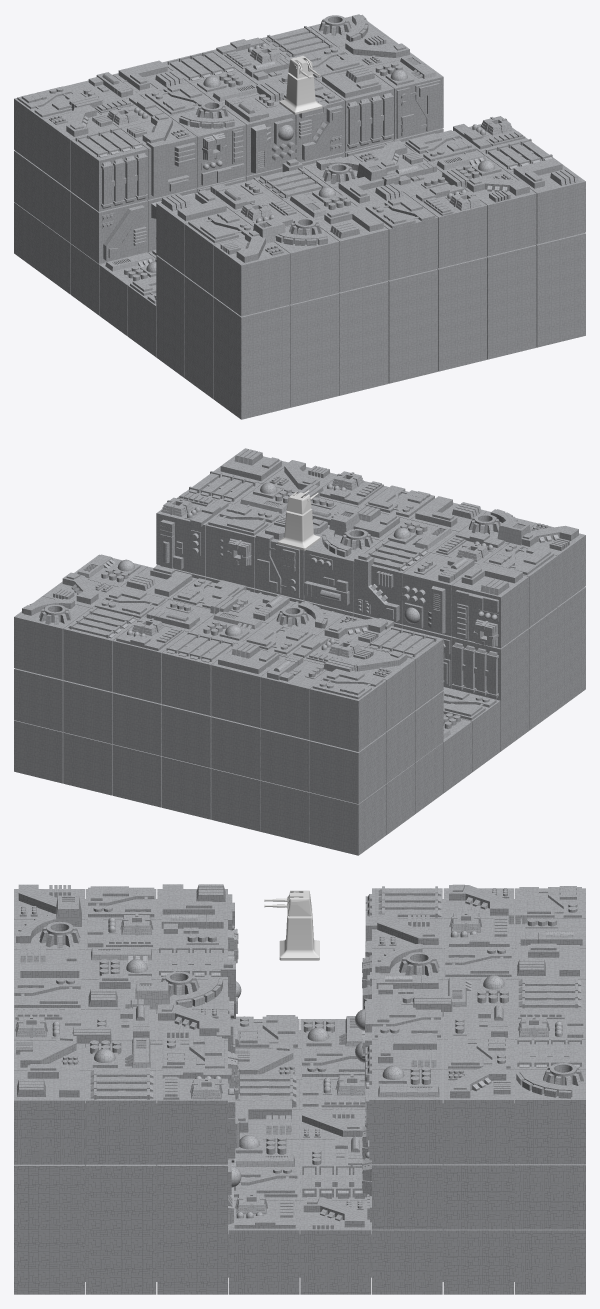
The model's file is trench-transformed.glb.
The picture shows the model from 3 angles, top to bottom: view 1: azimuth 30°, elevation 25°; view 2: azimuth 150°, elevation 25°; view 3: azimuth 270°, elevation 25°; orthographic projection. The views are drawn at different scales.
Visible parts, largest first — view 1: DeathStarTrench.001, Body; view 2: DeathStarTrench.001, Body; view 3: DeathStarTrench.001, Body, HEAD.
Boxes of the visible parts, bbox=[...] form: DeathStarTrench.001: bbox=[14, 14, 585, 419]; Body: bbox=[279, 73, 322, 114]; DeathStarTrench.001: bbox=[14, 448, 585, 855]; Body: bbox=[277, 508, 320, 550]; DeathStarTrench.001: bbox=[14, 884, 585, 1294]; Body: bbox=[279, 908, 319, 960]; HEAD: bbox=[288, 890, 311, 916].
Bounding box in the file's own units: 24.71 × 16.05 × 28.25.
3 materials, 2 textured.
